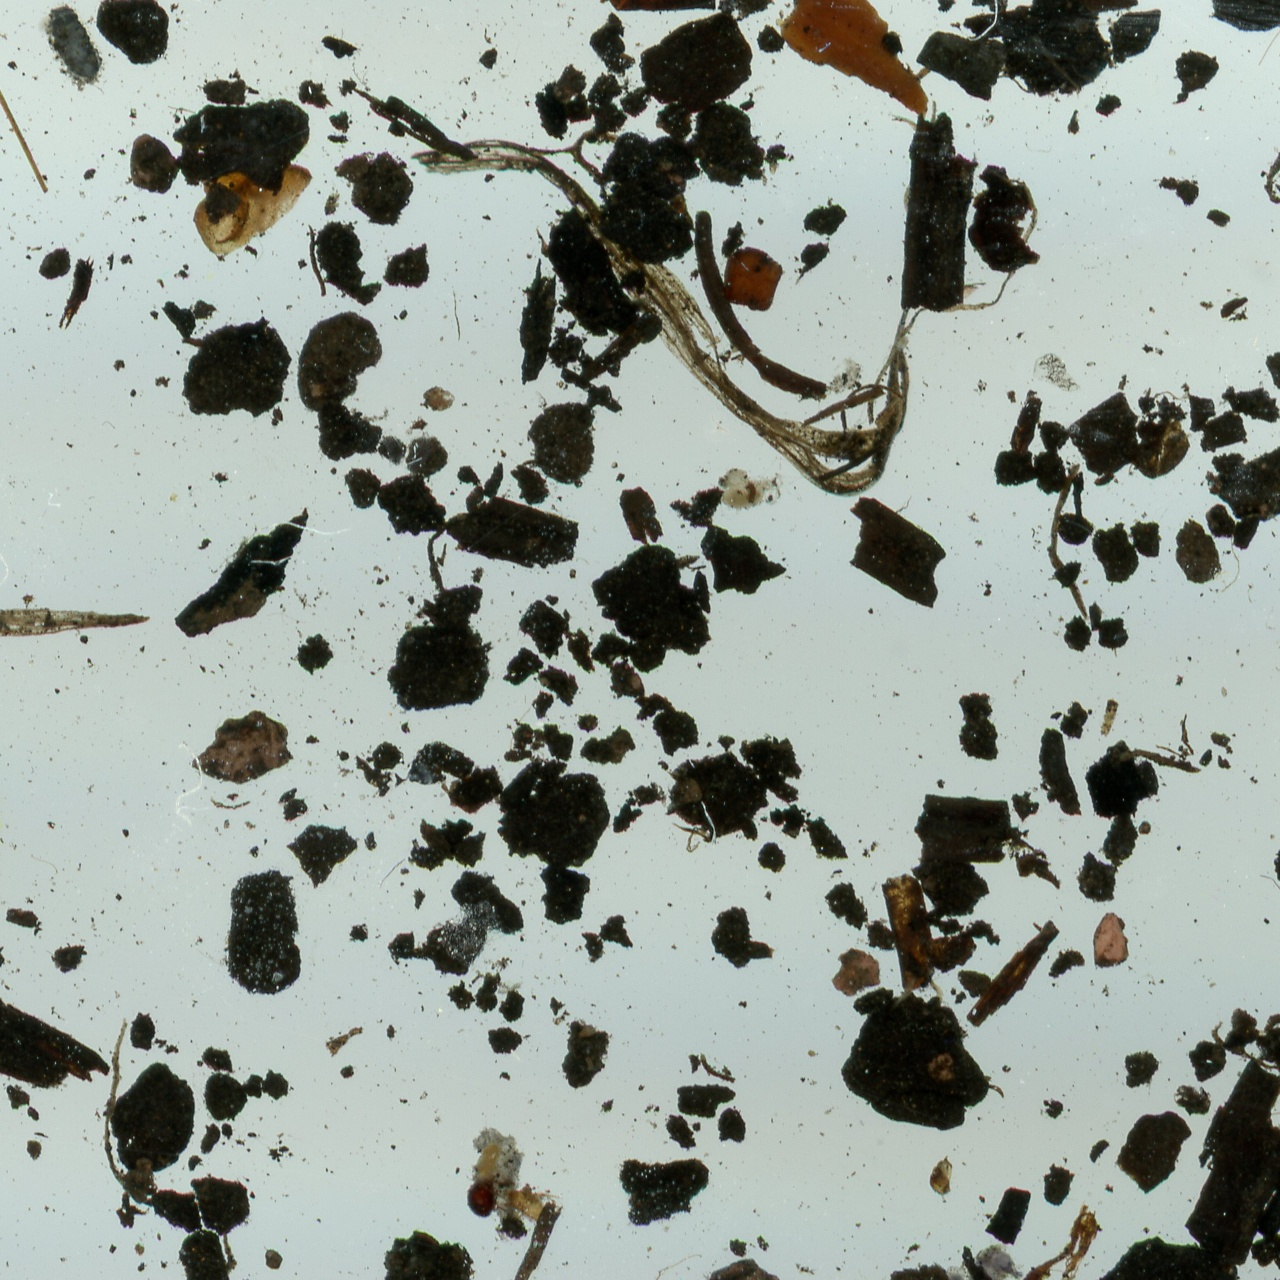arthropod: (28, 0, 119, 104), (945, 1234, 1032, 1280), (499, 1186, 561, 1224), (469, 1137, 500, 1185), (464, 1175, 497, 1220), (897, 1262, 970, 1280)
